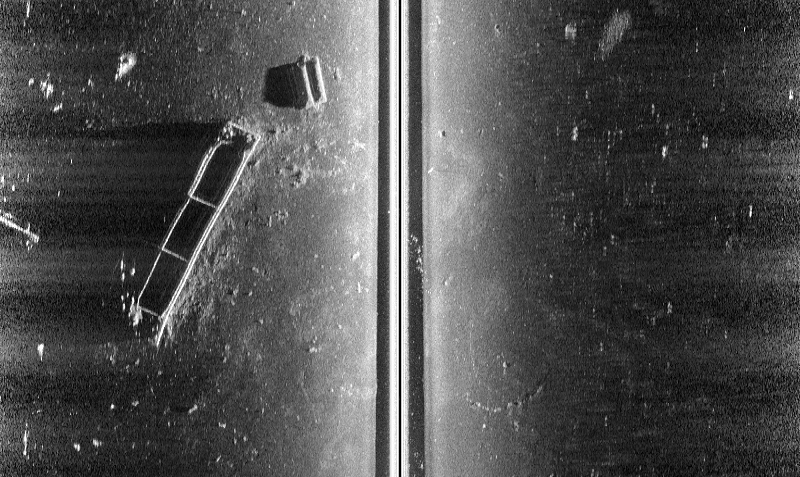ship: (123, 120, 266, 348), (291, 53, 331, 111)
